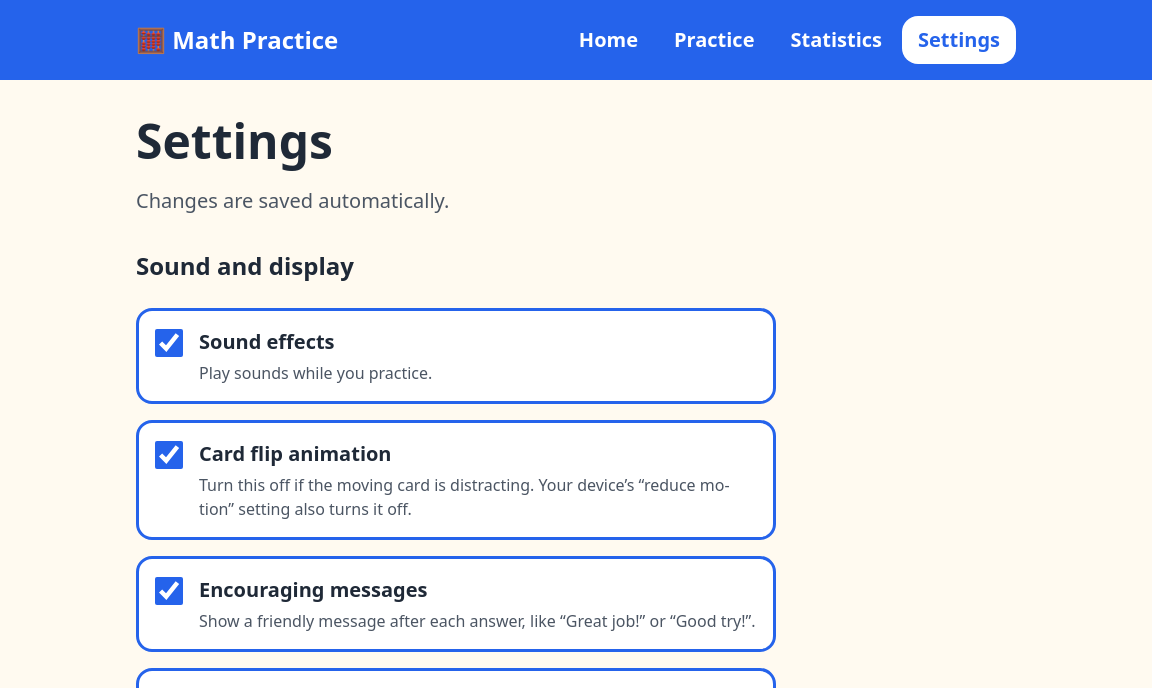
it: saved-data notices › explains, without jargon, when storage is blocked
Click the checkbox labelled "Sound effects".
click(169, 343)  # box [155,329,183,357]
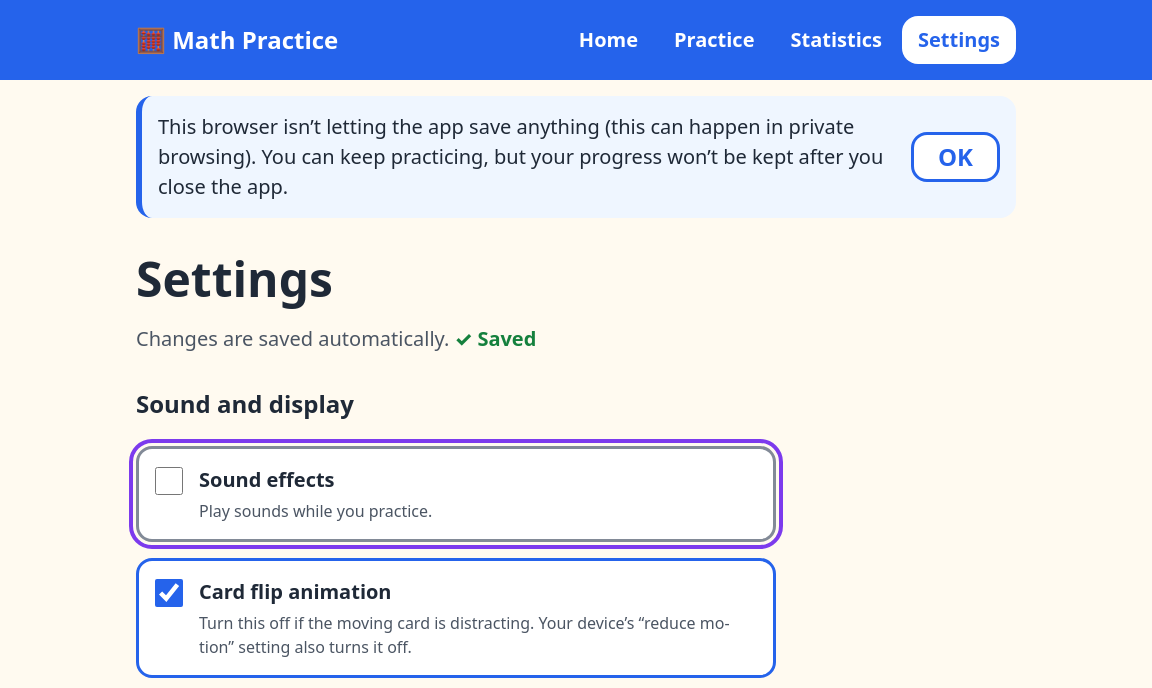
Expected: the 1st message shows "isn’t letting the app save anything", [158,113,883,200]
Expected: the 1st message shows "you can keep practicing", [158,113,883,200]
